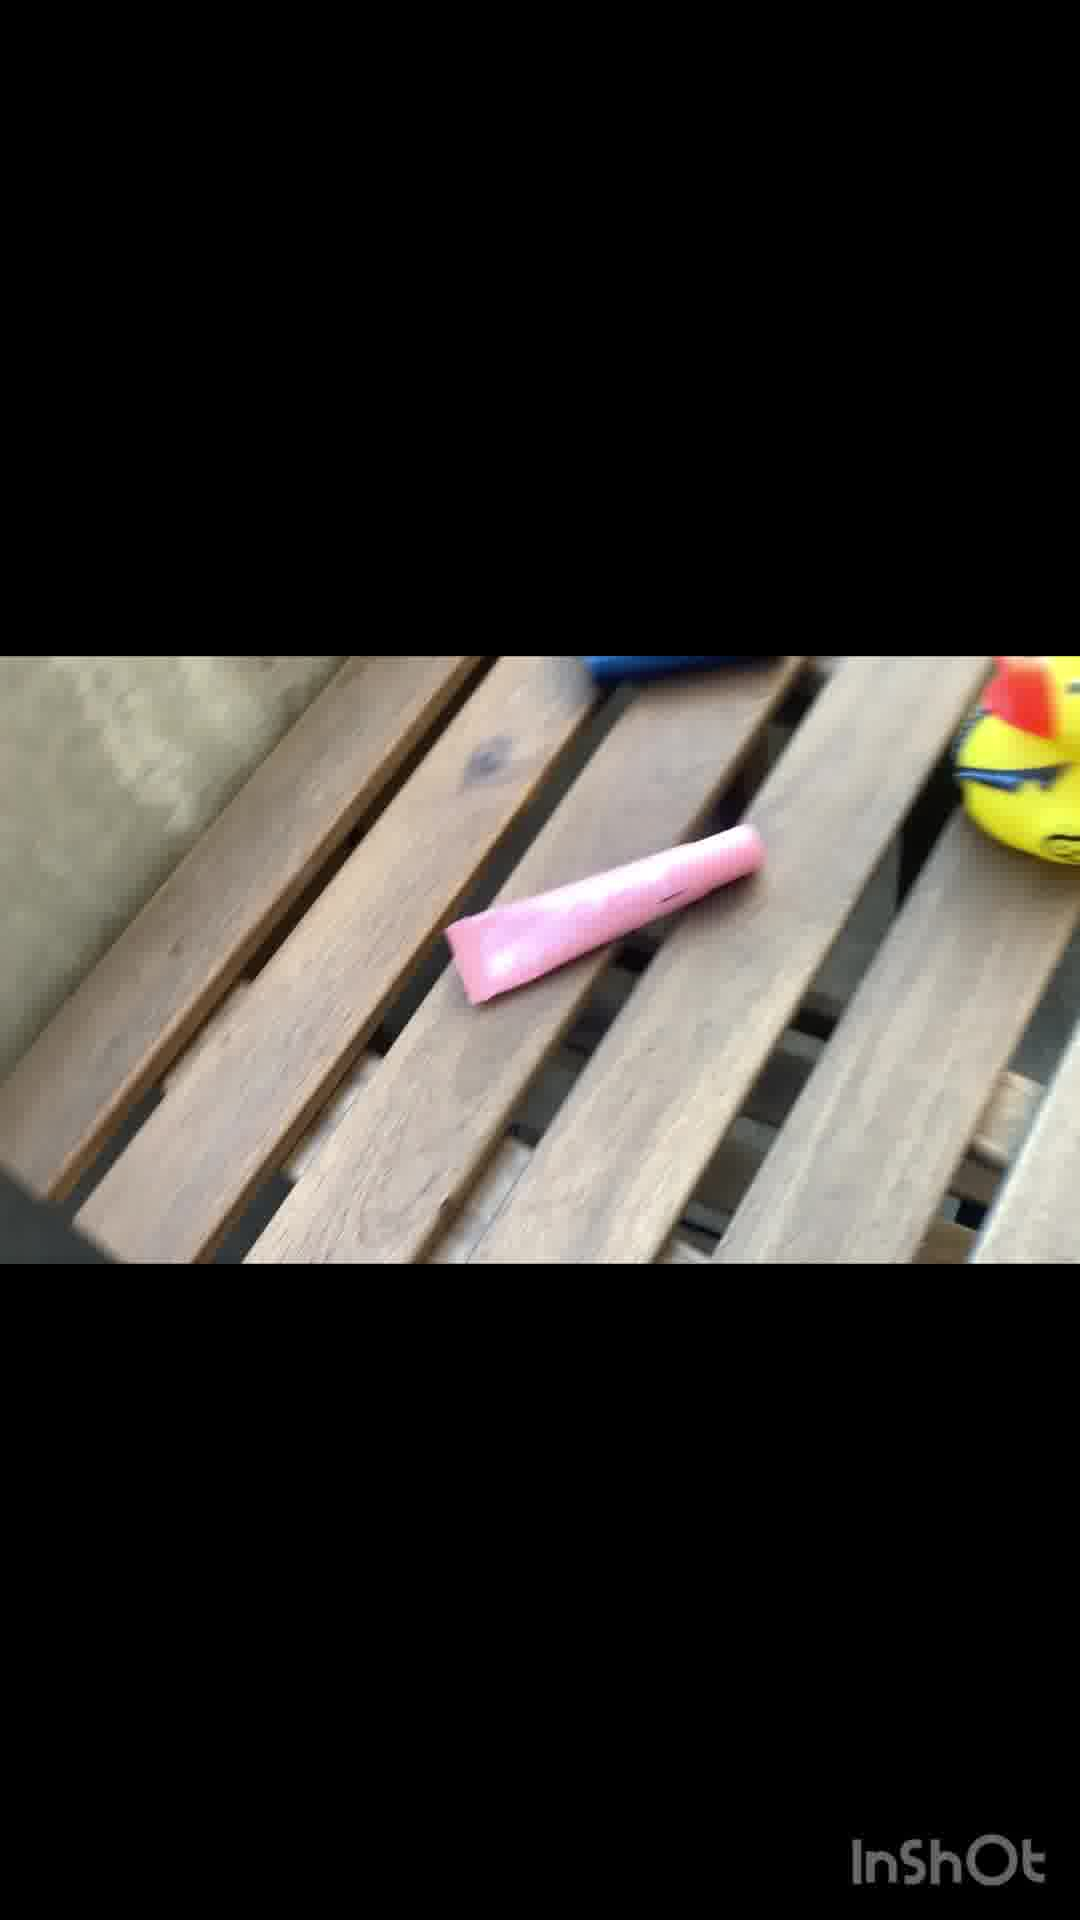duck: (939, 654, 1080, 885)
lip balm: (433, 844, 782, 977)
